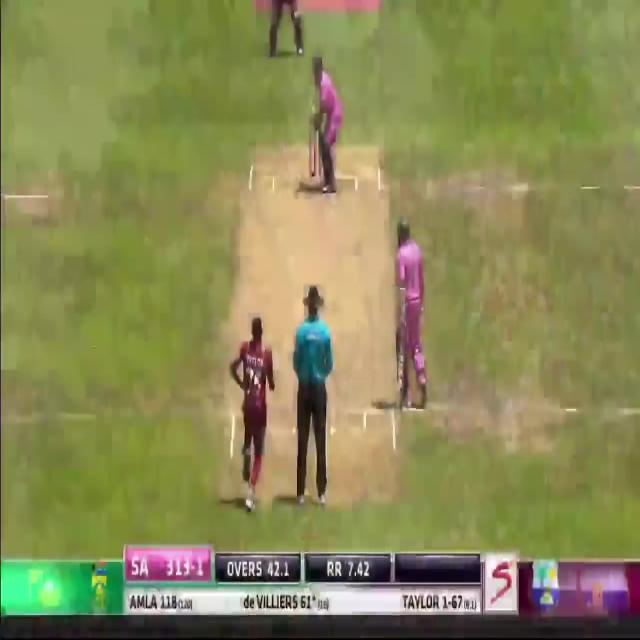Ball: (393, 217, 428, 407), (306, 53, 346, 192)
Fielder: (229, 312, 275, 506)
Umpire: (291, 282, 333, 506)
